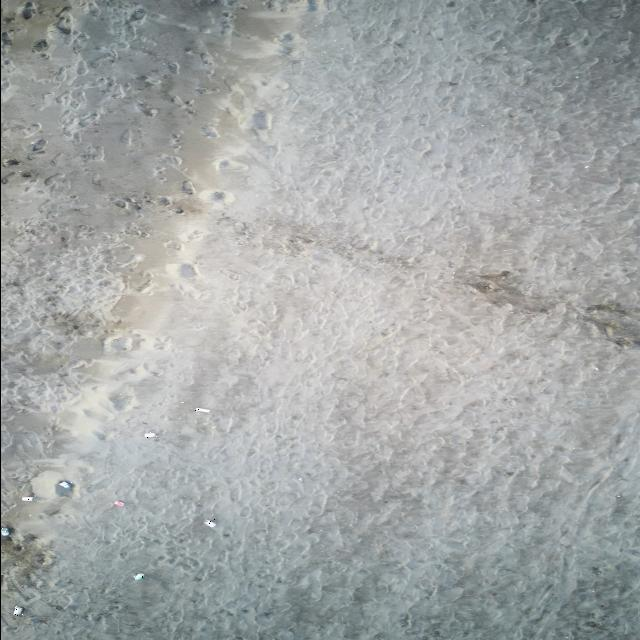Garbage: (55, 9, 71, 33), (253, 110, 268, 128), (22, 0, 33, 19), (57, 482, 71, 495), (181, 180, 195, 193), (131, 7, 144, 20), (0, 526, 12, 539), (31, 140, 45, 151), (203, 517, 216, 527), (33, 40, 46, 48), (13, 607, 23, 615), (134, 572, 143, 580), (195, 407, 209, 412), (20, 495, 33, 500), (113, 500, 123, 506), (145, 432, 156, 437)
